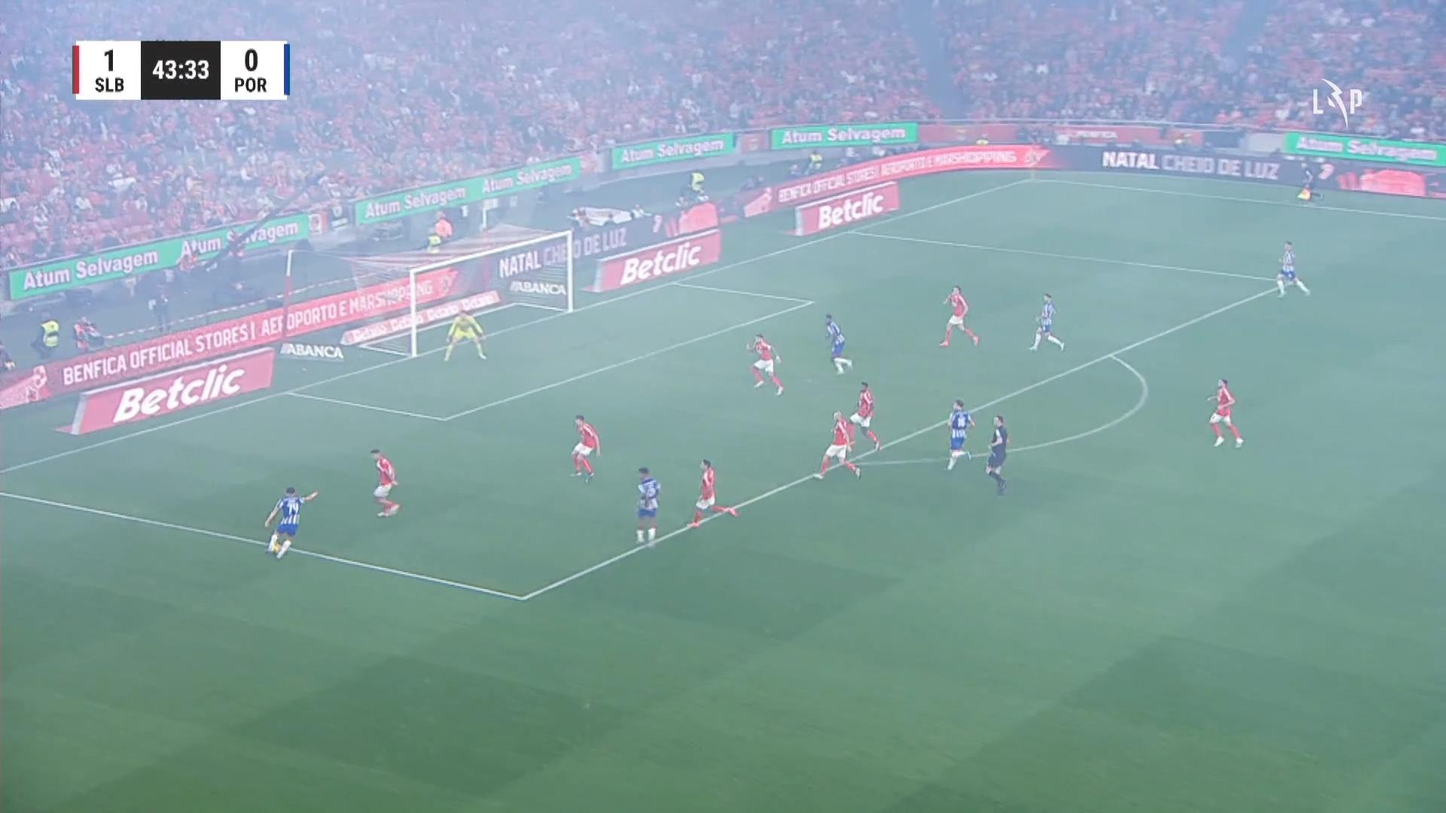ball: (282, 538, 291, 547)
goalkeeper: (442, 306, 487, 361)
player: (263, 485, 318, 559), (687, 458, 738, 528), (813, 410, 861, 480), (938, 284, 979, 348), (1206, 378, 1243, 447), (847, 380, 881, 452), (746, 333, 784, 396), (1027, 292, 1065, 352), (944, 398, 975, 470), (568, 413, 600, 482), (369, 448, 400, 517), (634, 466, 660, 544), (984, 414, 1009, 495), (1275, 240, 1310, 297), (823, 312, 853, 374)
referee: (1297, 164, 1323, 200)
